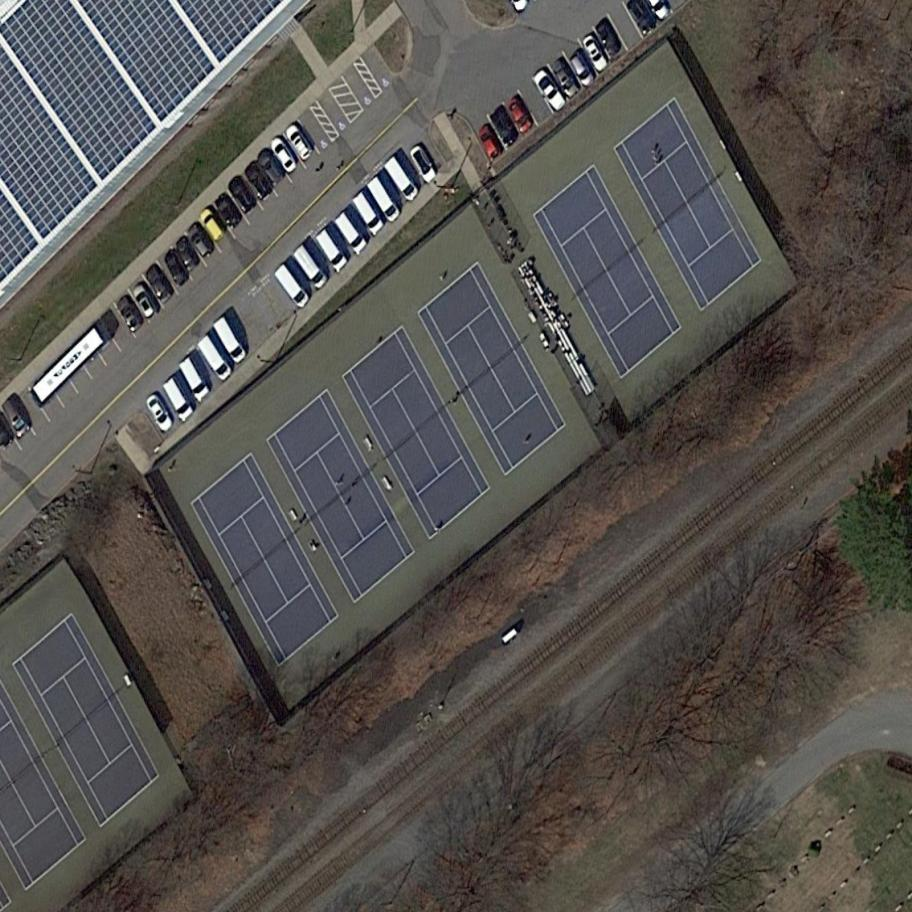large-vehicle: (24, 320, 117, 412), (378, 152, 426, 207), (269, 262, 314, 312), (362, 172, 405, 224), (288, 242, 332, 291), (311, 225, 354, 275), (329, 207, 372, 256), (210, 315, 251, 366), (348, 189, 388, 238), (158, 374, 197, 424), (195, 334, 235, 382), (175, 355, 214, 404)
small-vehicle: (530, 65, 570, 114), (486, 103, 526, 151), (252, 146, 292, 191), (501, 92, 540, 138), (140, 261, 179, 307), (280, 119, 319, 165), (577, 28, 615, 75), (591, 13, 628, 61), (222, 174, 262, 218), (126, 279, 165, 324), (266, 133, 305, 177), (240, 159, 278, 204), (171, 232, 208, 278), (183, 218, 221, 262), (141, 390, 179, 434), (406, 140, 442, 186), (159, 246, 194, 292), (211, 190, 249, 232), (194, 202, 231, 245), (0, 396, 35, 441), (549, 54, 583, 100), (473, 122, 509, 165), (114, 293, 147, 333), (567, 50, 598, 89)
